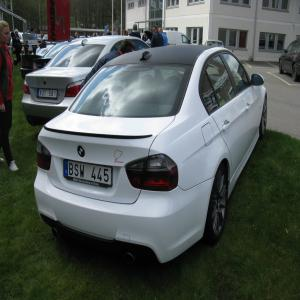Vehicle-registration-plate: (63, 165, 113, 185), (38, 90, 58, 100)
